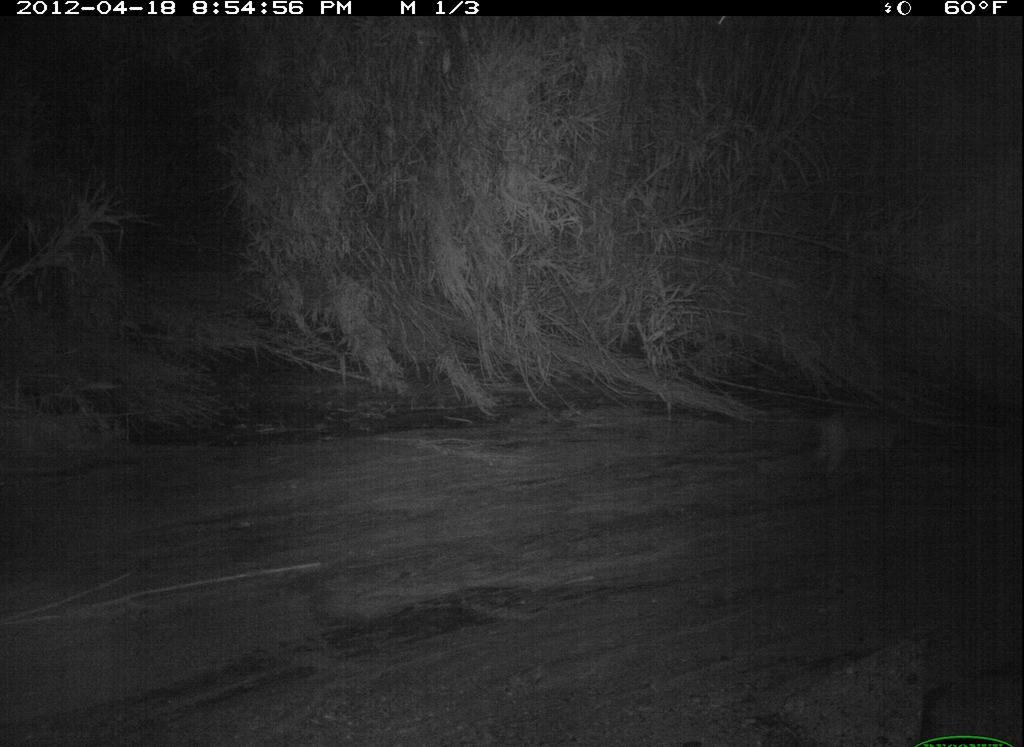bobcat: (772, 392, 940, 493)
